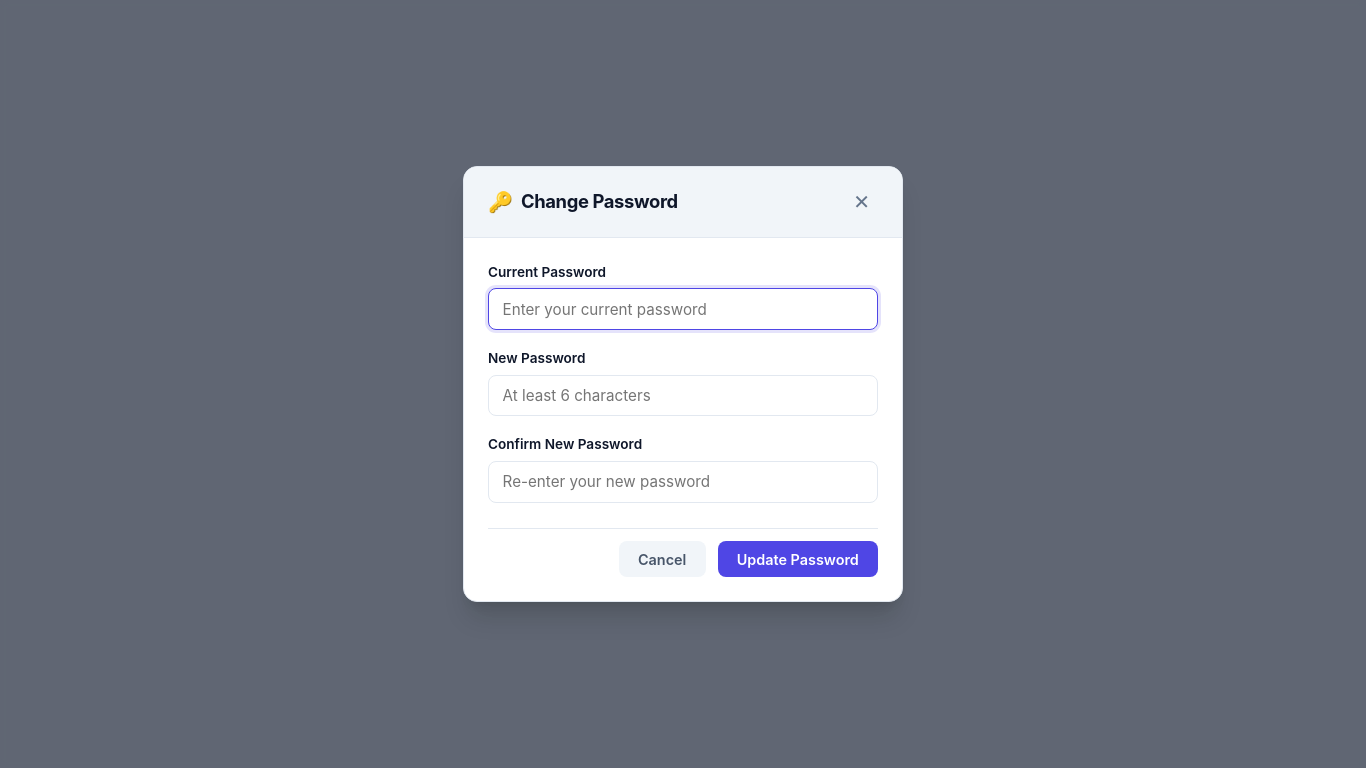
it: ChangePasswordModal Component › shows error when new password and confirm password do not match
In the password field labelled "Current Password": (683, 309) left=488, top=288, right=878, bottom=330, type "oldpass123"
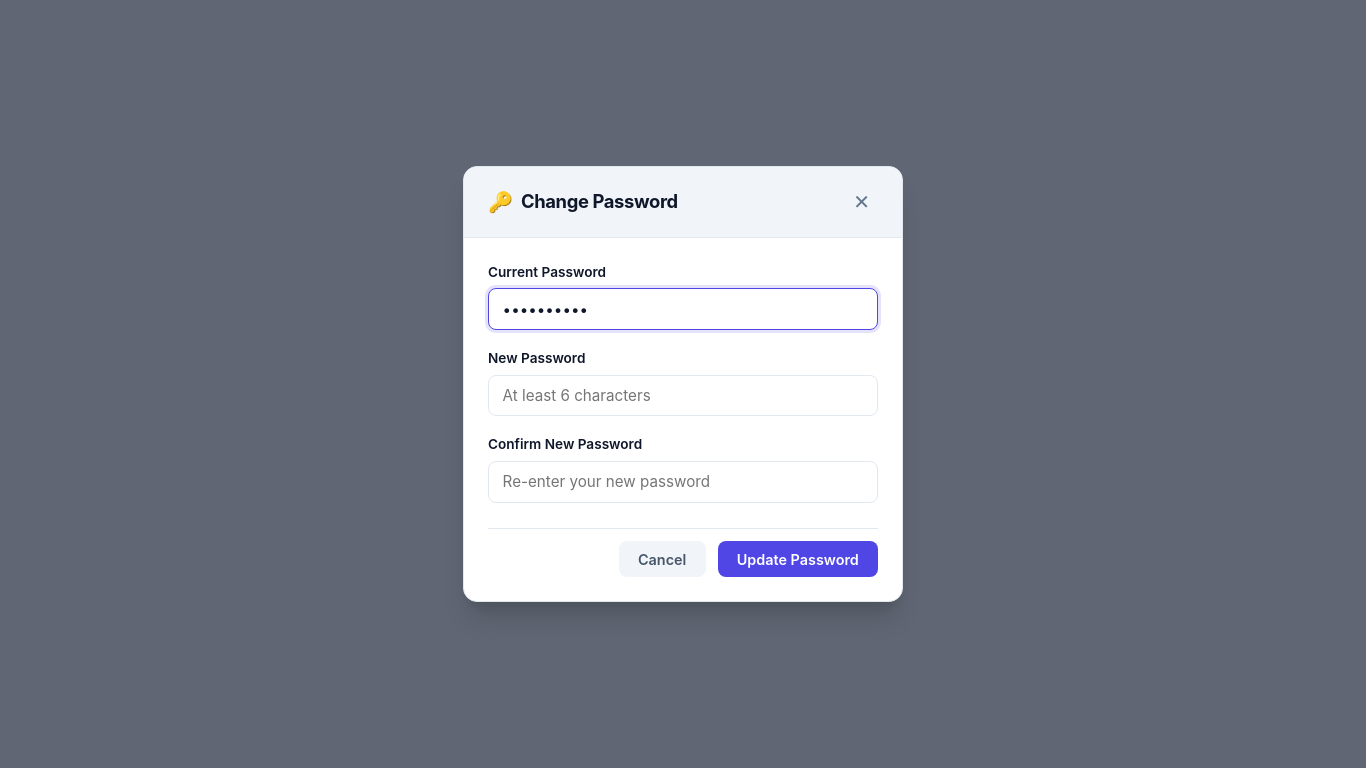
In the password field labelled "New Password": (683, 396) left=488, top=375, right=878, bottom=416, type "newpassword1"
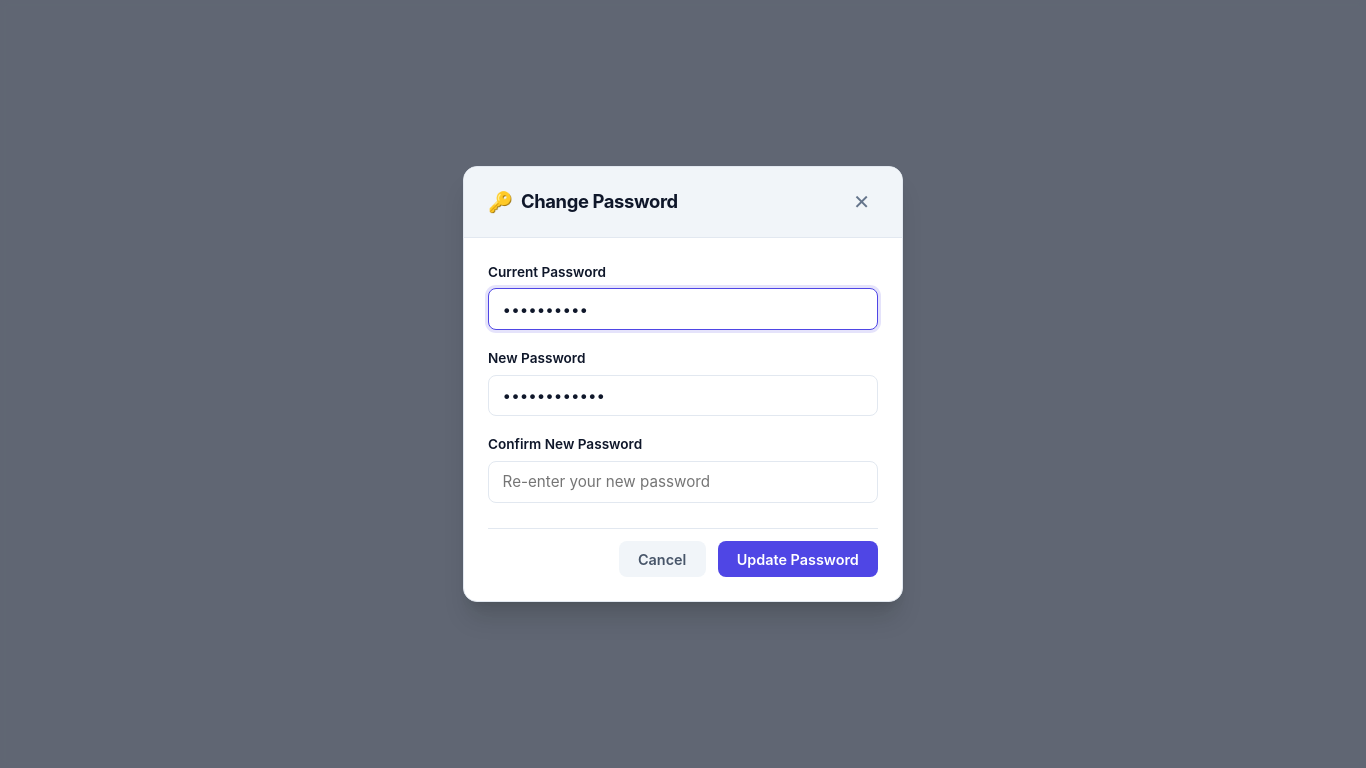
In the password field labelled "Confirm New Password": (683, 482) left=488, top=461, right=878, bottom=503, type "differentpass"
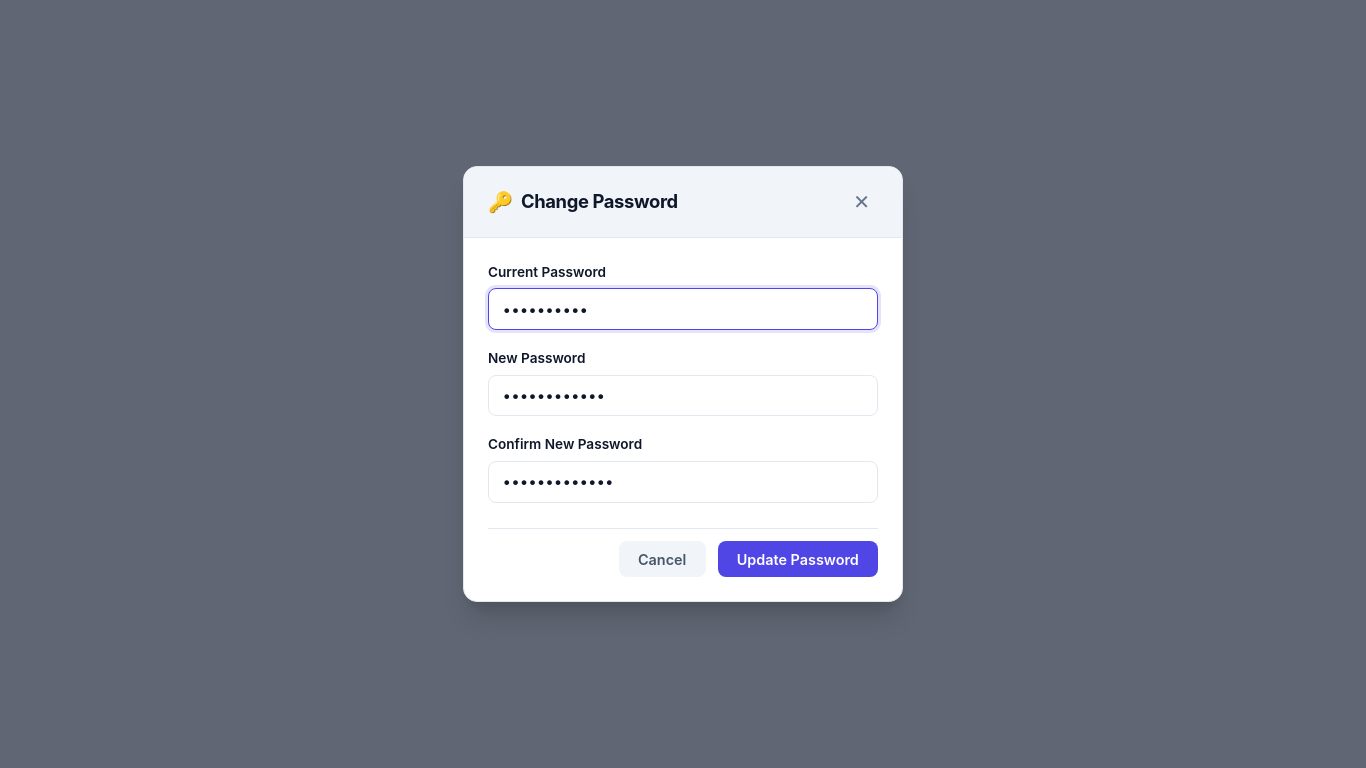
Click the button "Update Password": (798, 559) left=718, top=541, right=878, bottom=577
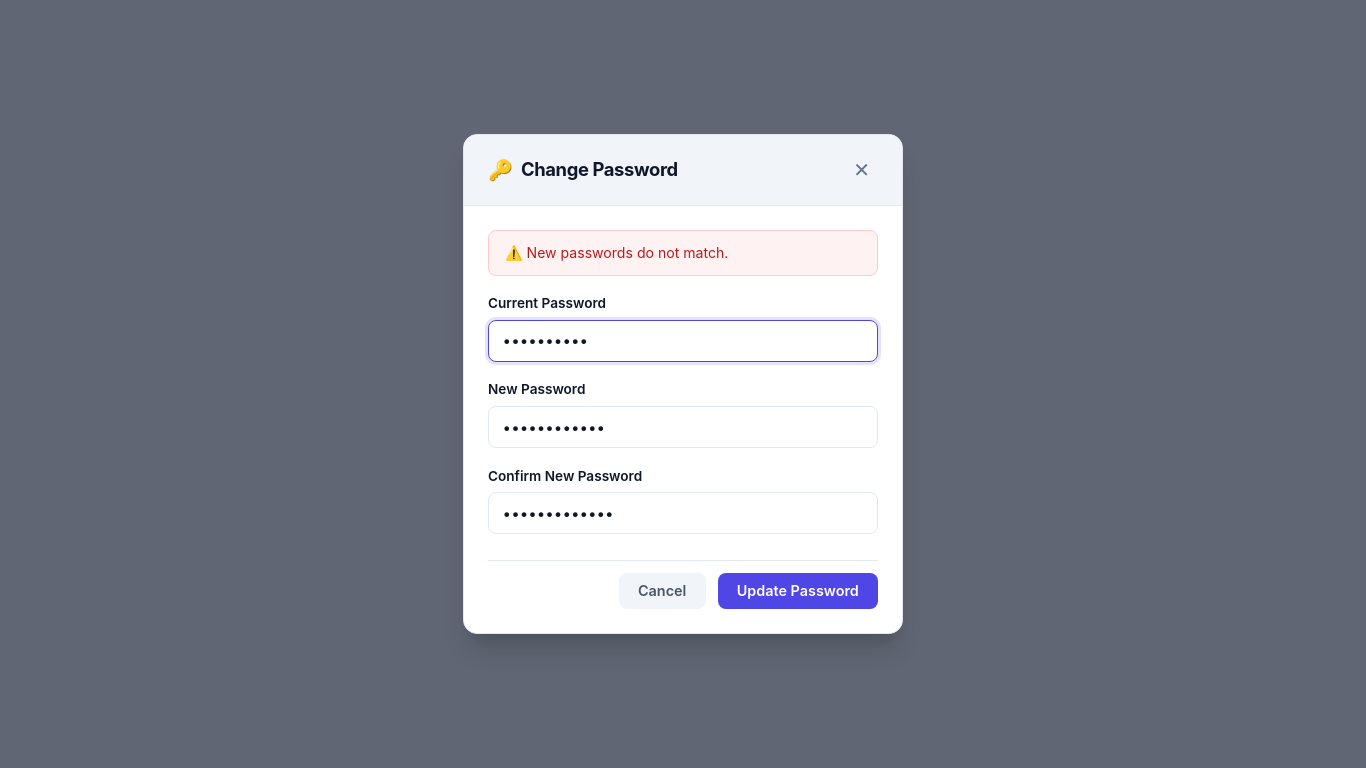
expect the text "⚠️ New passwords do not match." is shown: met, box left=488, top=230, right=878, bottom=276
